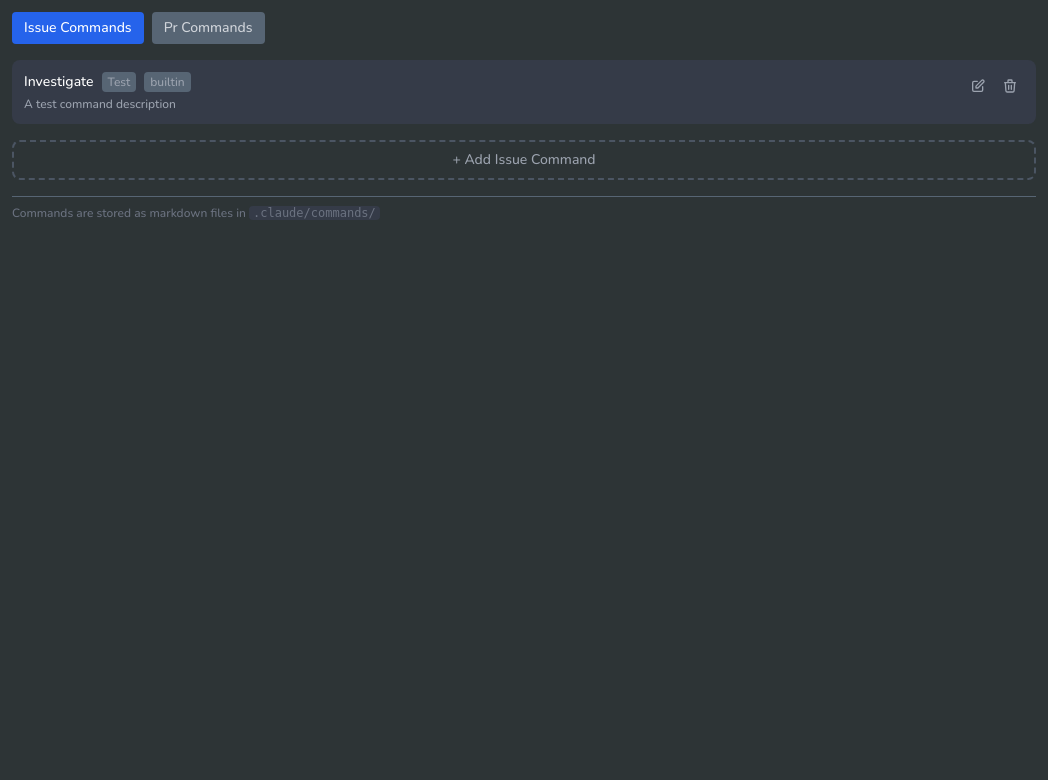
Test: CommandEditor › Editing Commands › populates template field in edit form
Click the button named "Edit" at point(978, 86), box [964,72,992,100]
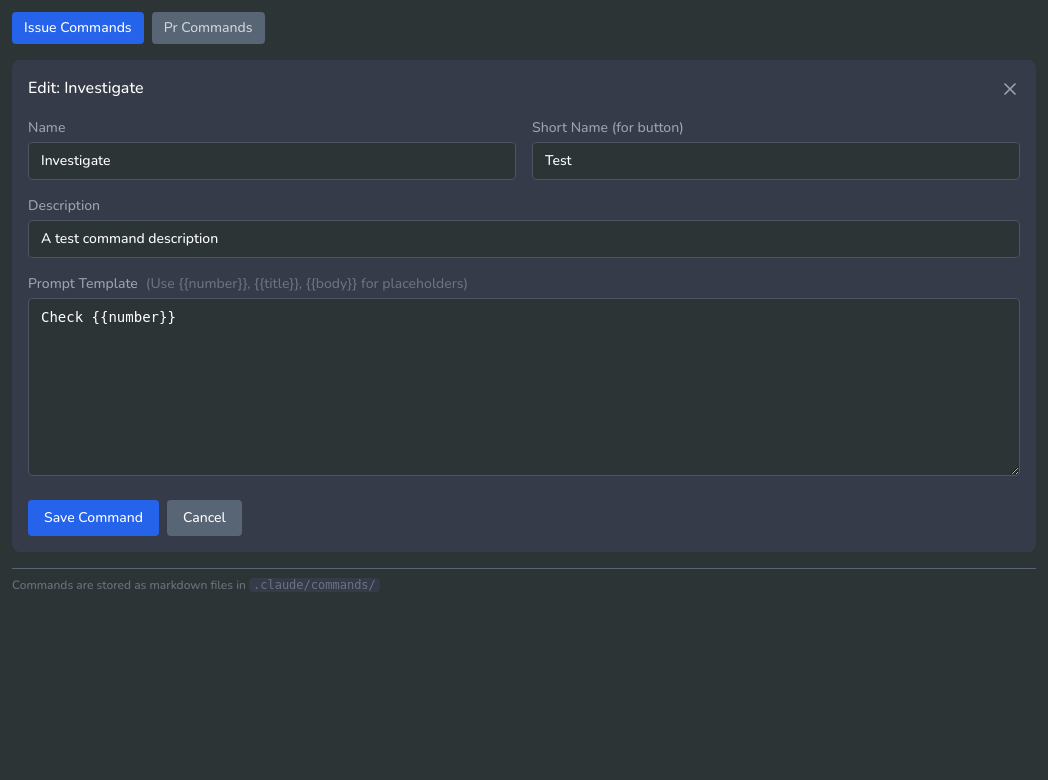
Check: the text box with placeholder "Please analyze this issue and suggest a fix..." holds "Check {{number}}", box [28,298,1020,476]
